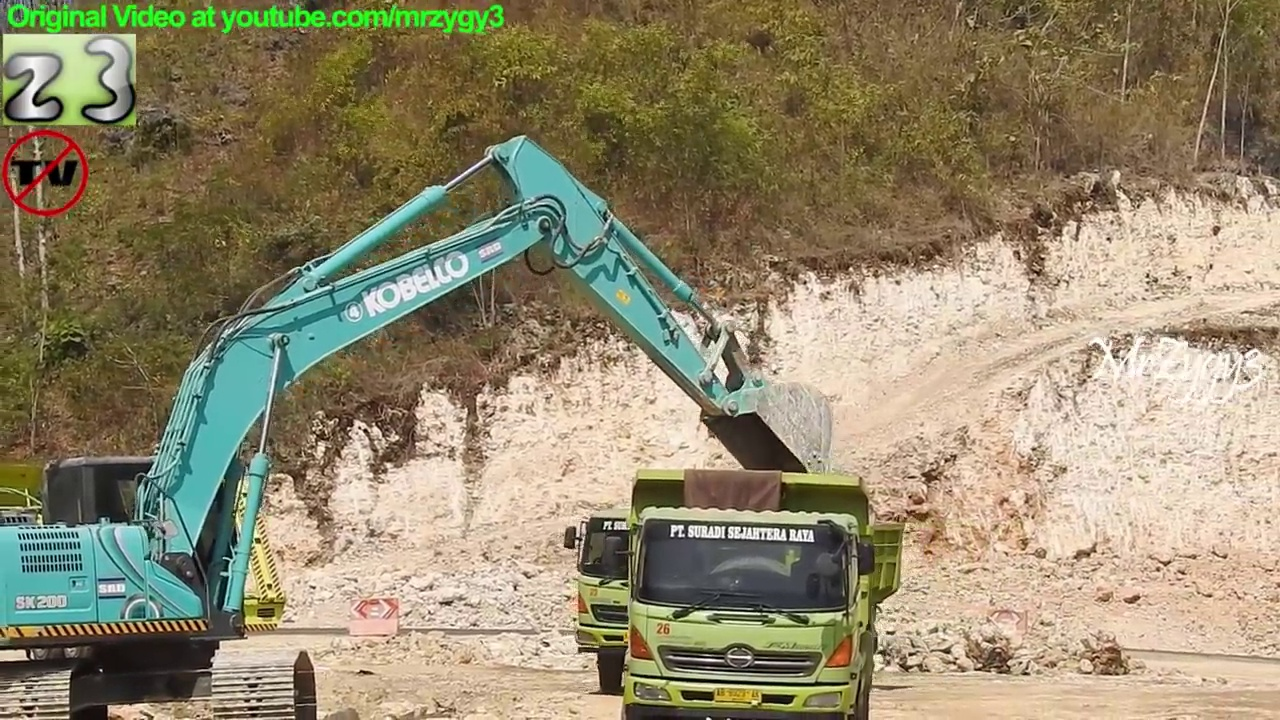excavator: (1, 130, 840, 720)
truck: (602, 459, 907, 720), (1, 456, 291, 667), (561, 507, 799, 713)
